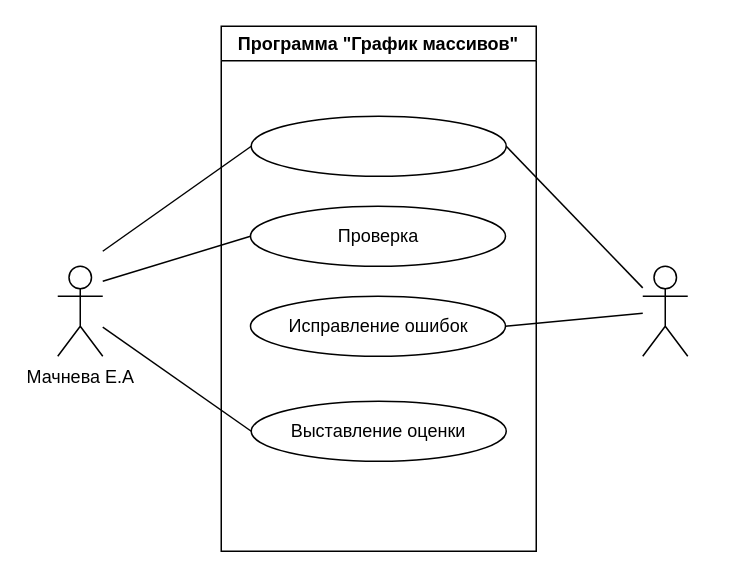
Image size: 743x578. Some labels were removed from this diagram. Each missing label, with the centre of its shape:
"Кудинов С.В" belongs at pixel 664 310.
"Просмотр программы" belongs at pixel 378 145.
